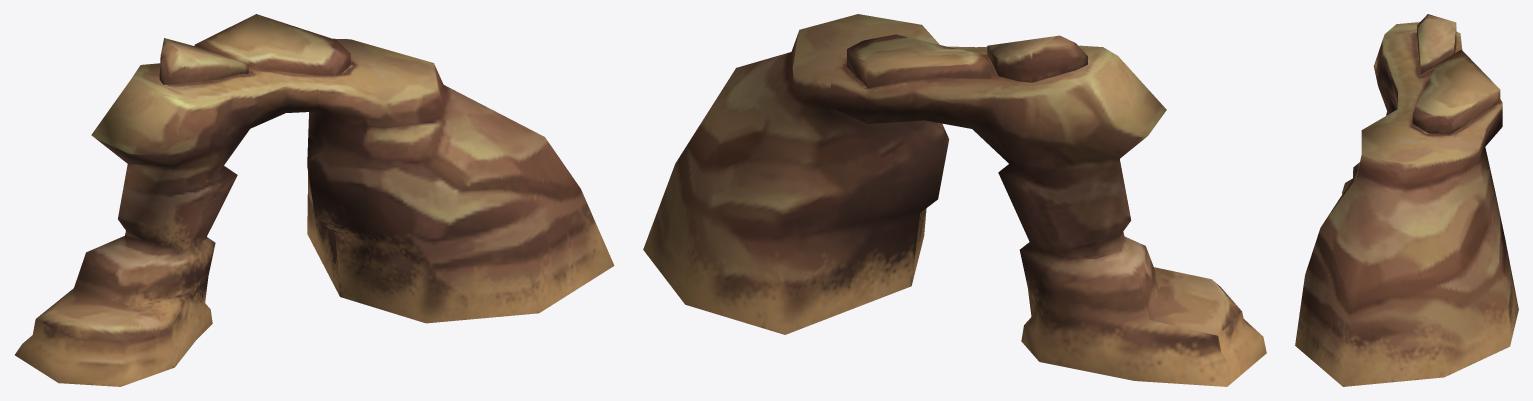
Rendered from gongmen01.FBX.
3 views of the same model, side by side, from view 1: azimuth 30°, elevation 25°; view 2: azimuth 150°, elevation 25°; view 3: azimuth 270°, elevation 25° (orthographic). The views are drawn at different scales.
Visible parts, largest first — view 1: shandong; view 2: shandong; view 3: shandong.
Part boxes in pixels (box(x1,y1,x2,y2)): shandong: box(15, 14, 614, 386); shandong: box(643, 14, 1266, 386); shandong: box(1295, 14, 1518, 386).
Bounding box in the file's own units: 476 × 229 × 212.
